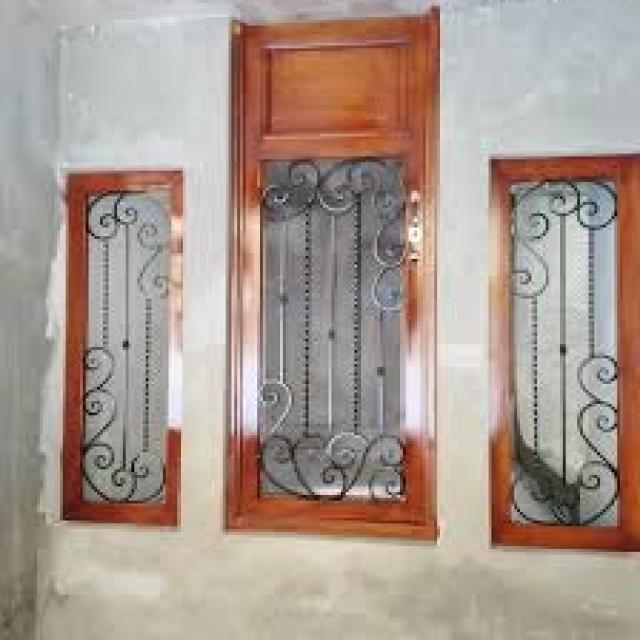door: (224, 9, 442, 544)
